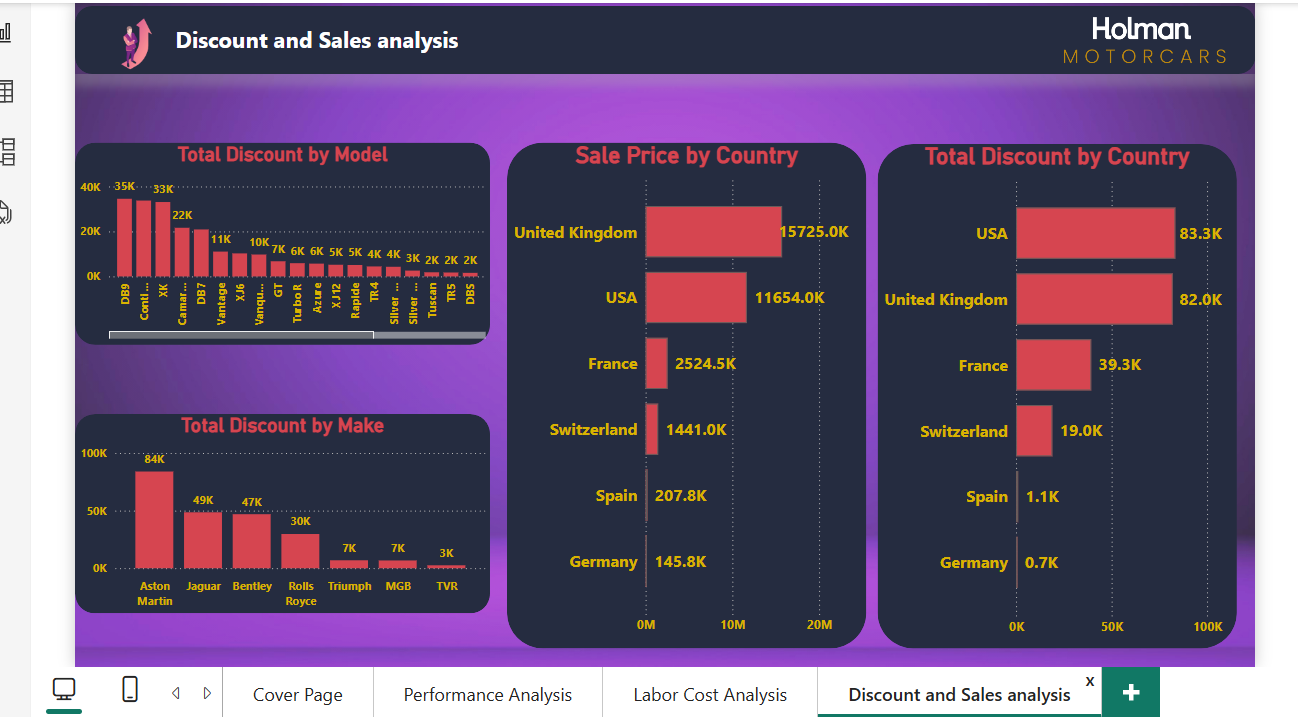

This screenshot's page, from the dashboard's own definition file:
{"tool":"powerbi","page":{"name":"Discount and Sales analysis","canvas":[1280,720],"ordinal":3},"visuals":[{"type":"shape","box":[0,3.8,1280,73.8],"z":0},{"type":"textbox","box":[103.3,18.3,365,58.3],"z":1000},{"type":"image","box":[1064.3,10,191.4,60],"z":2000},{"type":"image","box":[10,0,112.9,84.3],"z":3000},{"type":"shape","box":[469.2,151.1,389.7,548.8],"z":4000},{"type":"shape","box":[0,151.1,450.1,219.5],"z":5000},{"type":"shape","box":[0,445.4,450.1,216.3],"z":6000},{"type":"clusteredColumnChart","title":"Total Discount by Model","fields":{"Y":["Sum(BaseData.TotalDiscount)"],"Category":["BaseData.Model"]},"box":[0,151.1,450.1,217.9],"z":7000},{"type":"clusteredColumnChart","title":"Total Discount by Make","fields":{"Y":["Sum(BaseData.TotalDiscount)"],"Category":["BaseData.Make"]},"box":[0,445.4,450.1,217.9],"z":8000},{"type":"barChart","title":"Sale Price by Country","fields":{"Category":["BaseData.CountryName"],"Y":["Sum(BaseData.SalePrice)"]},"box":[467.6,149.5,389.7,544],"z":9000},{"type":"shape","box":[870.1,152.7,389.7,547.2],"z":10000},{"type":"barChart","title":"Total Discount by Country","fields":{"Category":["BaseData.CountryName"],"Y":["Sum(BaseData.TotalDiscount)"]},"box":[870.1,151.1,389.7,544],"z":11000}]}

Visuals, with their boxes on the page's 1280x720 design canvas (x1, y1, x2, y2). These are canvas units, not pixel positions in the 1298x717 screenshot, which may show the page scaled, cropped or inside an application window:
shape: <bbox>0, 4, 1280, 78</bbox>
textbox: <bbox>103, 18, 468, 77</bbox>
image: <bbox>1064, 10, 1256, 70</bbox>
image: <bbox>10, 0, 123, 84</bbox>
shape: <bbox>469, 151, 859, 700</bbox>
shape: <bbox>0, 151, 450, 371</bbox>
shape: <bbox>0, 445, 450, 662</bbox>
"Total Discount by Model" clusteredColumnChart: <bbox>0, 151, 450, 369</bbox>
"Total Discount by Make" clusteredColumnChart: <bbox>0, 445, 450, 663</bbox>
"Sale Price by Country" barChart: <bbox>468, 150, 857, 694</bbox>
shape: <bbox>870, 153, 1260, 700</bbox>
"Total Discount by Country" barChart: <bbox>870, 151, 1260, 695</bbox>
